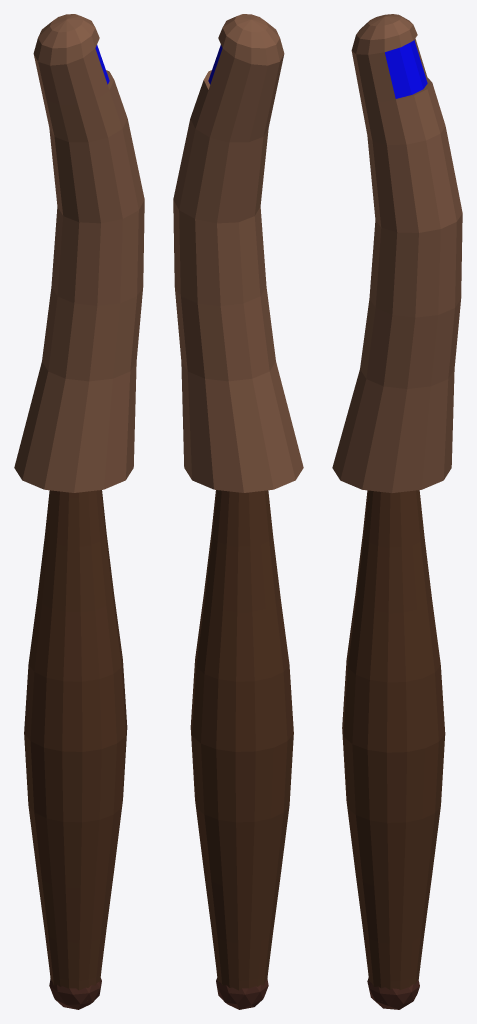
Rendered from Wand 140.glb.
3 views of the same model, side by side, from view 1: azimuth 30°, elevation 25°; view 2: azimuth 150°, elevation 25°; view 3: azimuth 330°, elevation 25° (orthographic).
Visible parts, largest first — view 1: GeneratedWand; view 2: GeneratedWand; view 3: GeneratedWand.
Boxes of the visible parts, bbox=[...] form: GeneratedWand: bbox=[14, 14, 144, 1009]; GeneratedWand: bbox=[173, 14, 303, 1009]; GeneratedWand: bbox=[332, 14, 462, 1009].
Size of the model in its own units: 0.0644 by 0.5225 by 0.0572.
